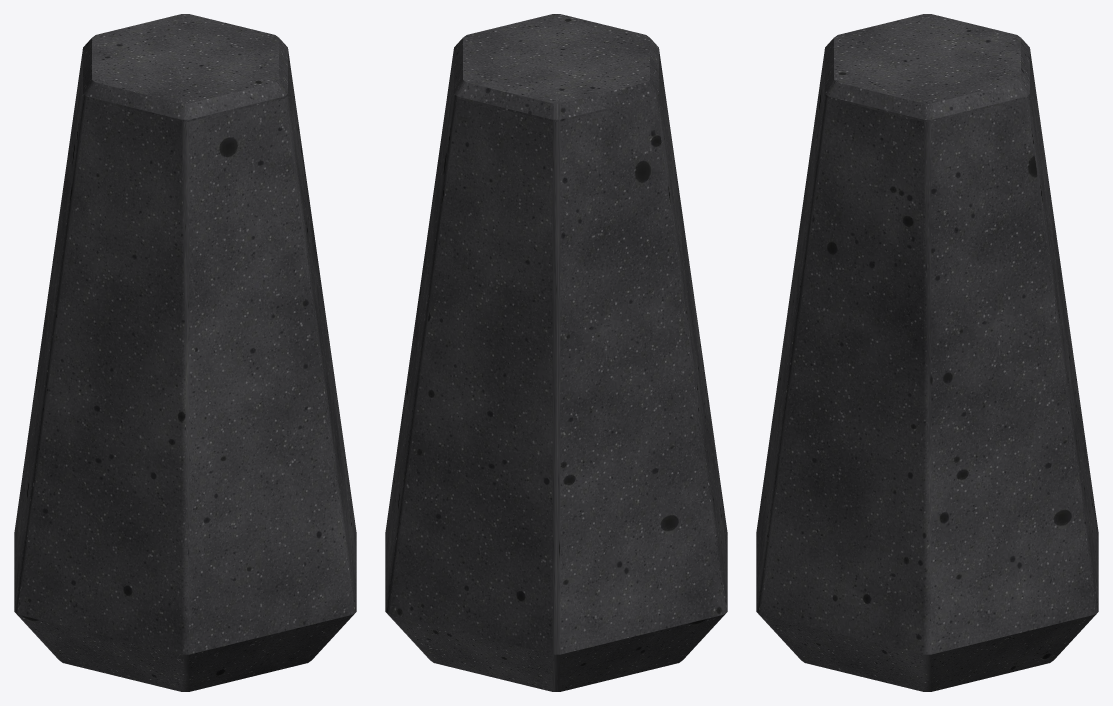
Rendered from pawn-black.glb.
3 renders of one model, left to right at view 1: azimuth 30°, elevation 25°; view 2: azimuth 150°, elevation 25°; view 3: azimuth 270°, elevation 25°, orthographic.
Parts seen in each view (by area): view 1: HEXALITH_black_pawn; view 2: HEXALITH_black_pawn; view 3: HEXALITH_black_pawn.
Boxes of the visible parts, x1=… form: HEXALITH_black_pawn: x1=14, y1=14, x2=356, y2=691; HEXALITH_black_pawn: x1=385, y1=14, x2=727, y2=691; HEXALITH_black_pawn: x1=756, y1=14, x2=1098, y2=691.
Size of the model in its own units: 0.5442 by 0.88 by 0.4767.
Materials: 1 (1 with a texture image).
